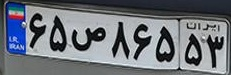character: (69, 18, 107, 53), (46, 9, 70, 54), (107, 18, 131, 60), (130, 20, 154, 62), (154, 22, 177, 65), (26, 10, 47, 52), (204, 31, 226, 69), (182, 30, 204, 67)
